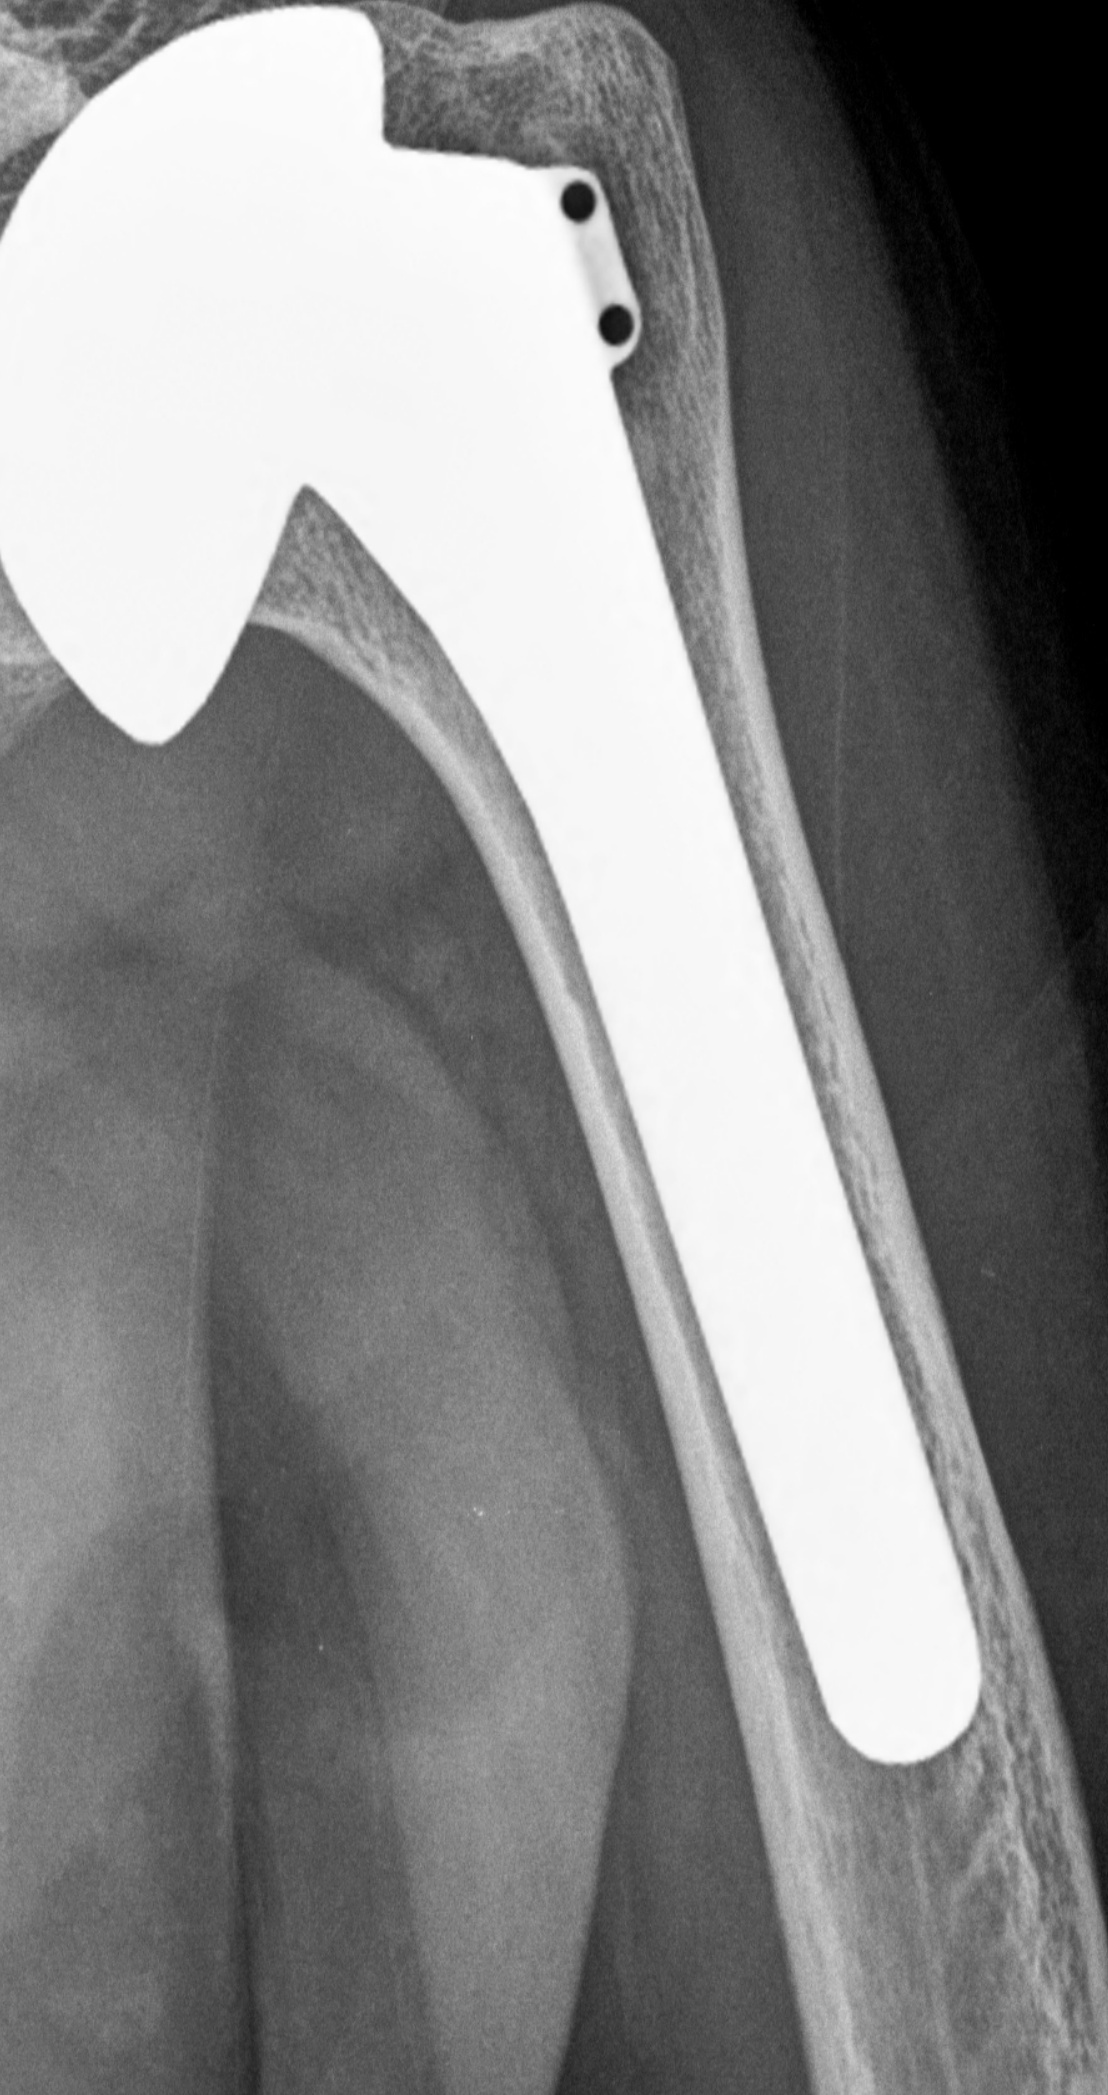Shoulder - AequalisPressfit - Tornier: (6, 6, 659, 775)
